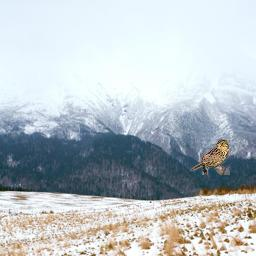Sparrow: (190, 139, 230, 175)
